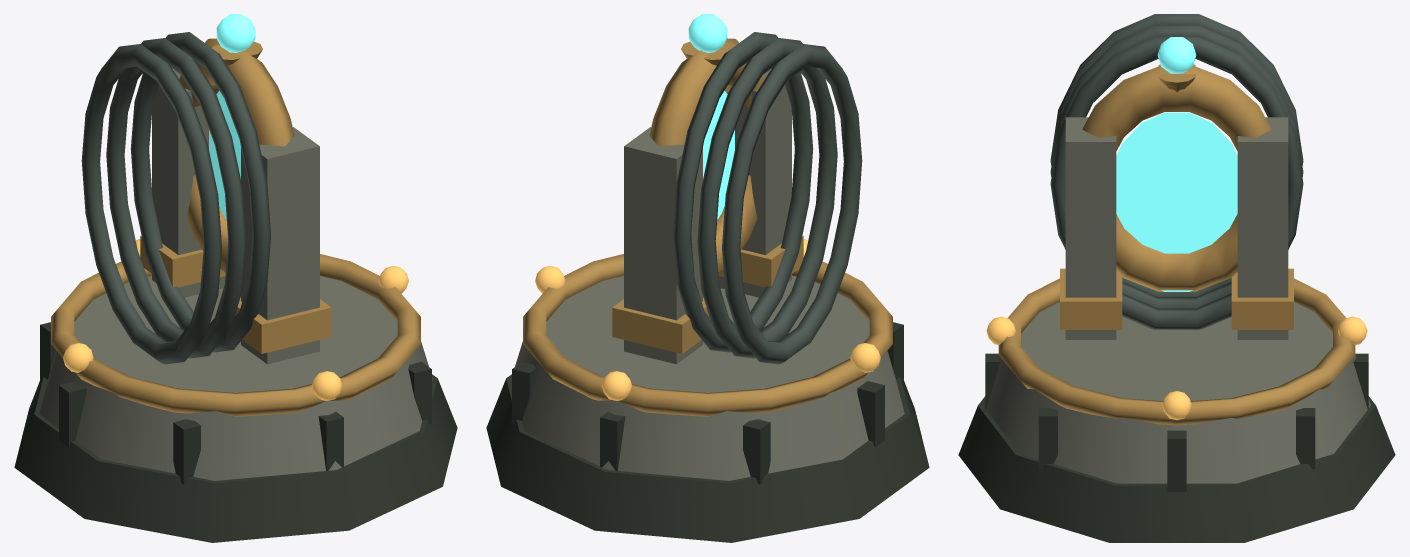
The model's file is tower_portal_portalSluice_ultimate.glb.
3 views of the same model, side by side, from view 1: azimuth 30°, elevation 25°; view 2: azimuth 150°, elevation 25°; view 3: azimuth 270°, elevation 25° (orthographic). The views are drawn at different scales.
Visible parts, largest first — view 1: stone_1, foot_0, time_gate_23, rim_2, time_gate_22, time_gate_21, arch_pillar_15, arch_pillar_17, arch_19, band_16, band_18, mortar_6 (+9 smaller); view 2: stone_1, foot_0, time_gate_23, rim_2, time_gate_22, time_gate_21, arch_pillar_17, arch_pillar_15, arch_19, band_18, band_16, mortar_8 (+9 smaller); view 3: stone_1, foot_0, portal_surface_20, arch_19, rim_2, time_gate_21, arch_pillar_15, arch_pillar_17, time_gate_22, time_gate_23, band_16, band_18 (+9 smaller).
Boxes of the visible parts, box(x1,y1,x2,y2) form: stone_1: box(39, 275, 432, 480); foot_0: box(14, 374, 457, 542); time_gate_23: box(81, 44, 221, 364); rim_2: box(51, 254, 420, 416); time_gate_22: box(106, 38, 246, 358); time_gate_21: box(130, 32, 270, 352); arch_pillar_15: box(241, 127, 319, 364); arch_pillar_17: box(152, 69, 225, 297); arch_19: box(179, 38, 294, 272); band_16: box(234, 298, 331, 353); band_18: box(140, 235, 225, 287); mortar_6: box(173, 419, 200, 484); stone_1: box(511, 275, 904, 480); foot_0: box(486, 374, 929, 542); time_gate_23: box(722, 44, 862, 364); rim_2: box(523, 254, 892, 416); time_gate_22: box(697, 38, 837, 358); time_gate_21: box(673, 32, 813, 352); arch_pillar_17: box(624, 127, 702, 364); arch_pillar_15: box(718, 69, 791, 297); arch_19: box(649, 38, 764, 272); band_18: box(612, 298, 709, 353); band_16: box(718, 235, 803, 287); mortar_8: box(743, 419, 770, 484); stone_1: box(983, 302, 1370, 483); foot_0: box(958, 396, 1395, 542); portal_surface_20: box(1116, 112, 1237, 291); arch_19: box(1082, 66, 1271, 291); rim_2: box(998, 278, 1355, 425); time_gate_21: box(1050, 37, 1303, 329); arch_pillar_15: box(1065, 117, 1116, 339); arch_pillar_17: box(1237, 117, 1288, 339); time_gate_22: box(1050, 25, 1303, 308); time_gate_23: box(1050, 14, 1303, 296); band_16: box(1060, 268, 1122, 329); band_18: box(1231, 268, 1293, 329).
Bounding box in the file's own units: 0.5326 × 0.59 × 0.56.
